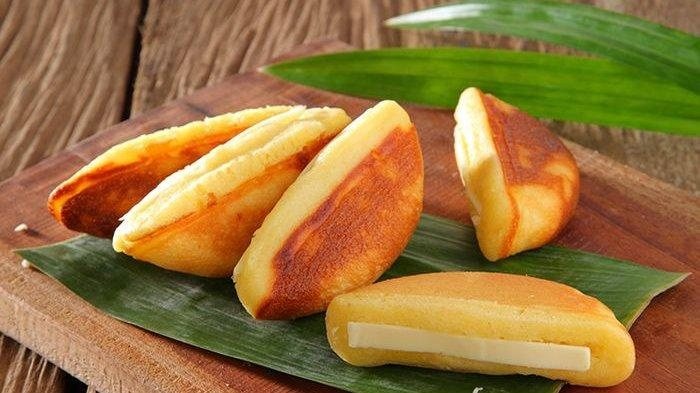pukis: (221, 97, 430, 332), (439, 81, 587, 269)
